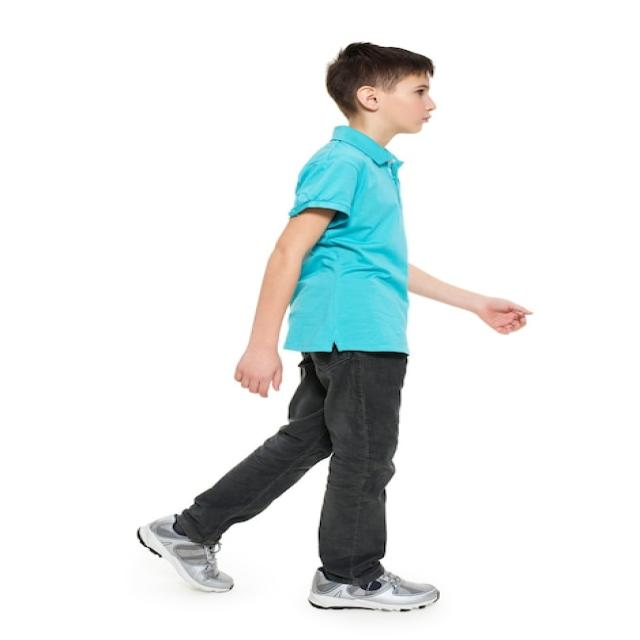Person: (138, 41, 531, 612)
